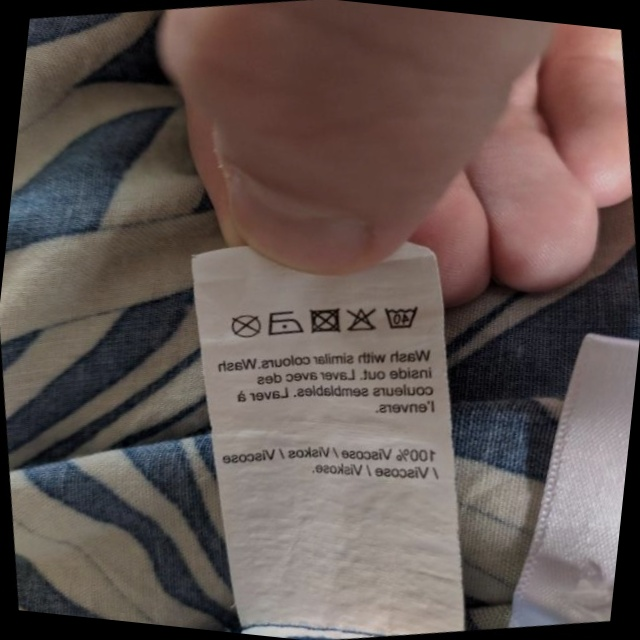40C: (380, 296, 423, 337)
DN_bleach: (339, 301, 385, 339)
DN_dry_clean: (225, 307, 266, 344)
DN_tumble_dry: (301, 299, 347, 343)
iron_low: (260, 301, 308, 344)
